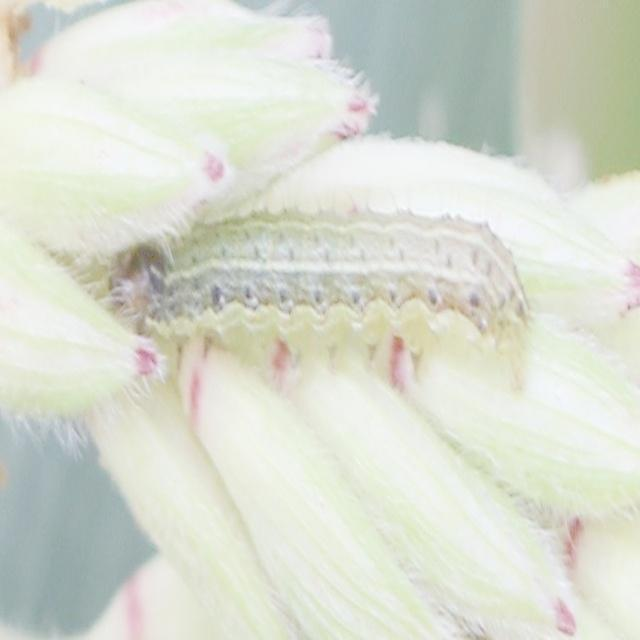gusano_cogollero: (168, 212, 532, 345)
